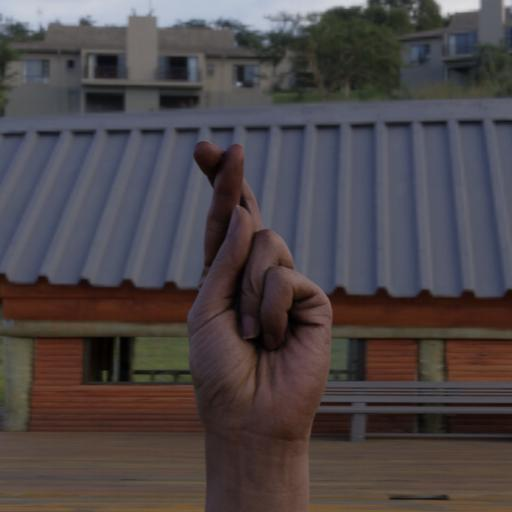R: (176, 134, 338, 456)
